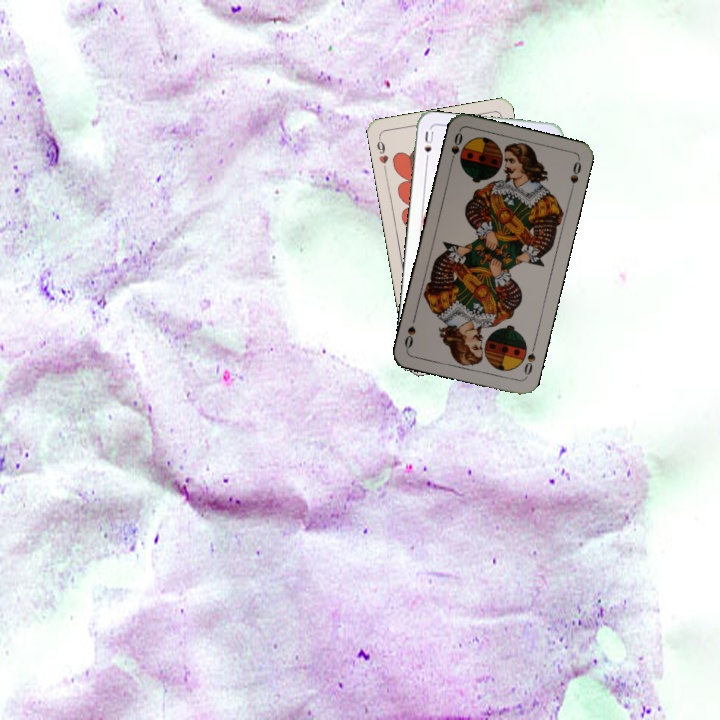H9: (373, 133, 391, 174)
SO: (446, 128, 465, 168), (520, 340, 538, 380)
SU: (420, 127, 436, 166)
